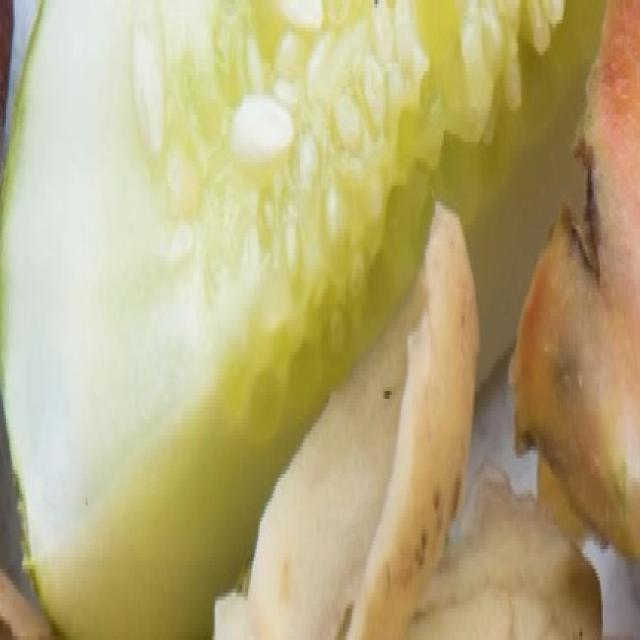food waste: (18, 0, 640, 608)
